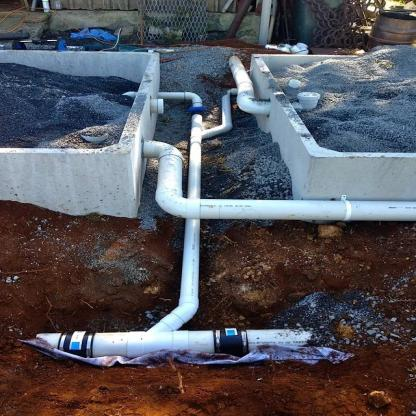PVC: (35, 55, 415, 358), (297, 91, 321, 109), (150, 98, 165, 115), (288, 79, 302, 91)
